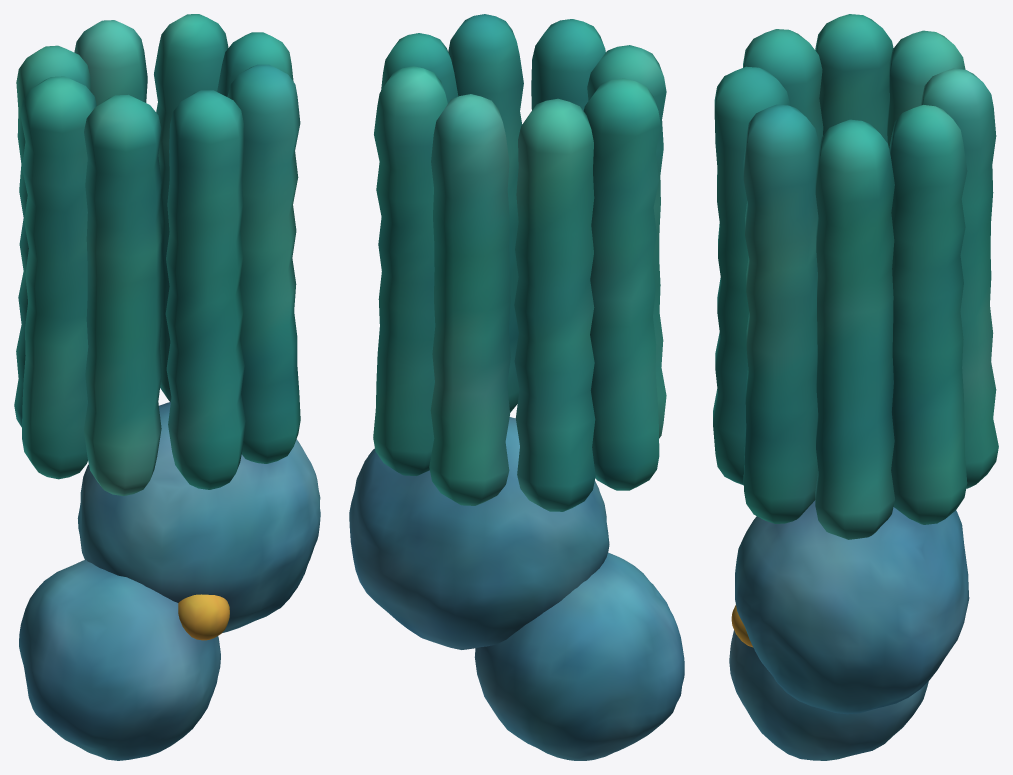
The model's file is etc-complex-2.glb.
3 views of the same model, side by side, from view 1: azimuth 30°, elevation 25°; view 2: azimuth 150°, elevation 25°; view 3: azimuth 270°, elevation 25° (orthographic). The views are drawn at different scales.
Parts seen in each view (by area): view 1: etc-complex-2-transmembrane, etc-complex-2-lobes, etc-complex-2-cofactor; view 2: etc-complex-2-transmembrane, etc-complex-2-lobes; view 3: etc-complex-2-transmembrane, etc-complex-2-lobes.
Boxes of the visible parts, bbox=[...] form: etc-complex-2-transmembrane: bbox=[14, 14, 300, 495]; etc-complex-2-lobes: bbox=[19, 402, 320, 760]; etc-complex-2-cofactor: bbox=[178, 594, 229, 640]; etc-complex-2-transmembrane: bbox=[373, 14, 666, 511]; etc-complex-2-lobes: bbox=[349, 417, 684, 760]; etc-complex-2-transmembrane: bbox=[713, 14, 998, 539]; etc-complex-2-lobes: bbox=[729, 500, 969, 760].
Size of what is drawn, in the model's own units: 0.8428 by 1.86 by 0.6821.
